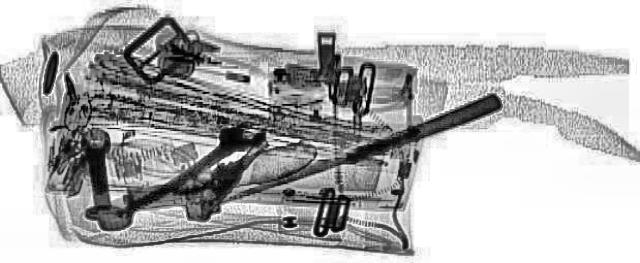Gun: (101, 120, 277, 224)
